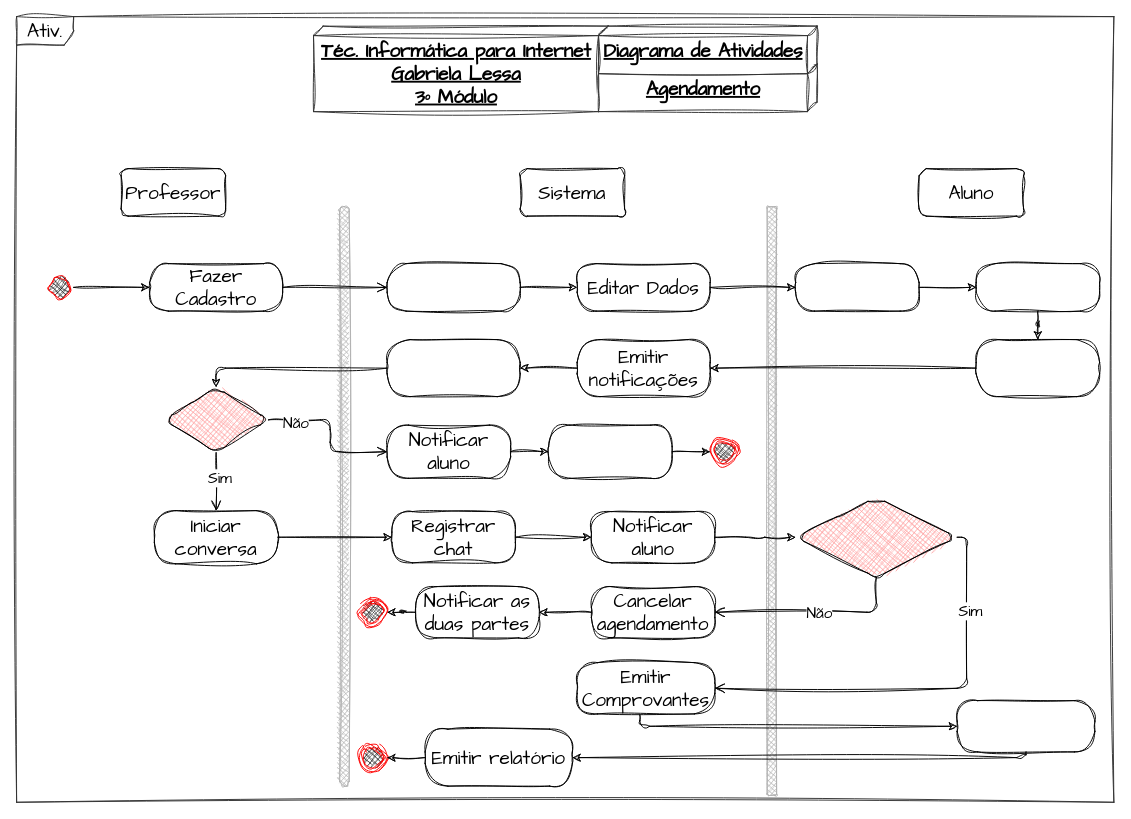
The diagram is 1131 pixels wide and 819 high, and some of its shapes have lost their labels. Here are the shapes that lost their labels. From the top down, the box of each, then its label:
(386, 263, 520, 311): Criar Dados
(795, 263, 919, 311): Buscar Disciplinas
(975, 263, 1100, 311): Checar calendário
(386, 339, 520, 397): Marcar a aula
(975, 339, 1100, 397): Fazer agendamento
(163, 386, 268, 453): Aceitar
(548, 424, 672, 478): Registrar atividade
(795, 496, 957, 577): Efetuar Pagamento
(956, 700, 1095, 752): Avaliar serviço
